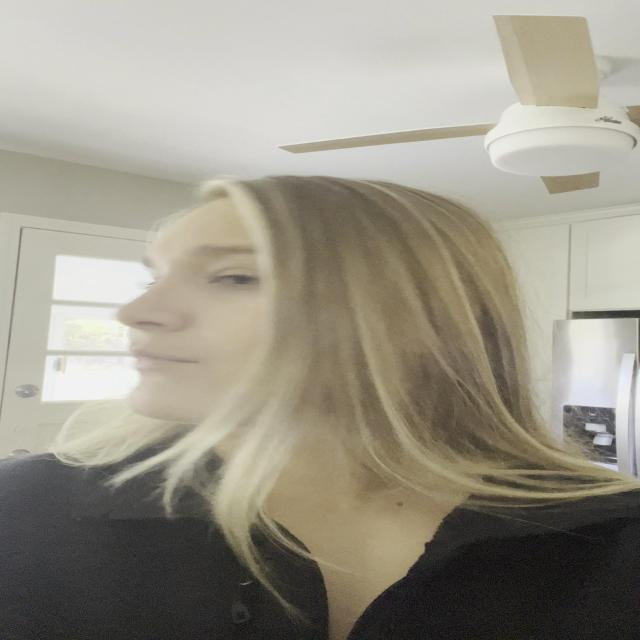no-helmet: (116, 198, 283, 424)
